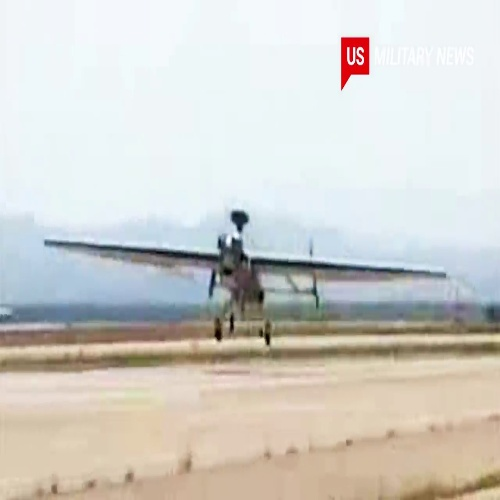uav194: (38, 208, 449, 349)
